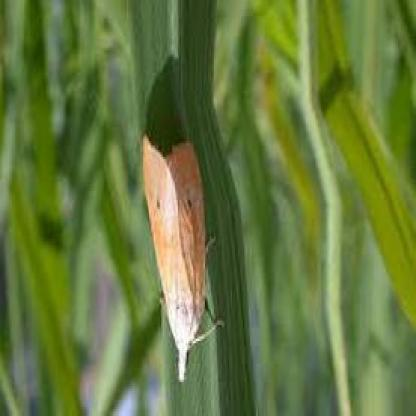stem-borer: (141, 134, 224, 384)
